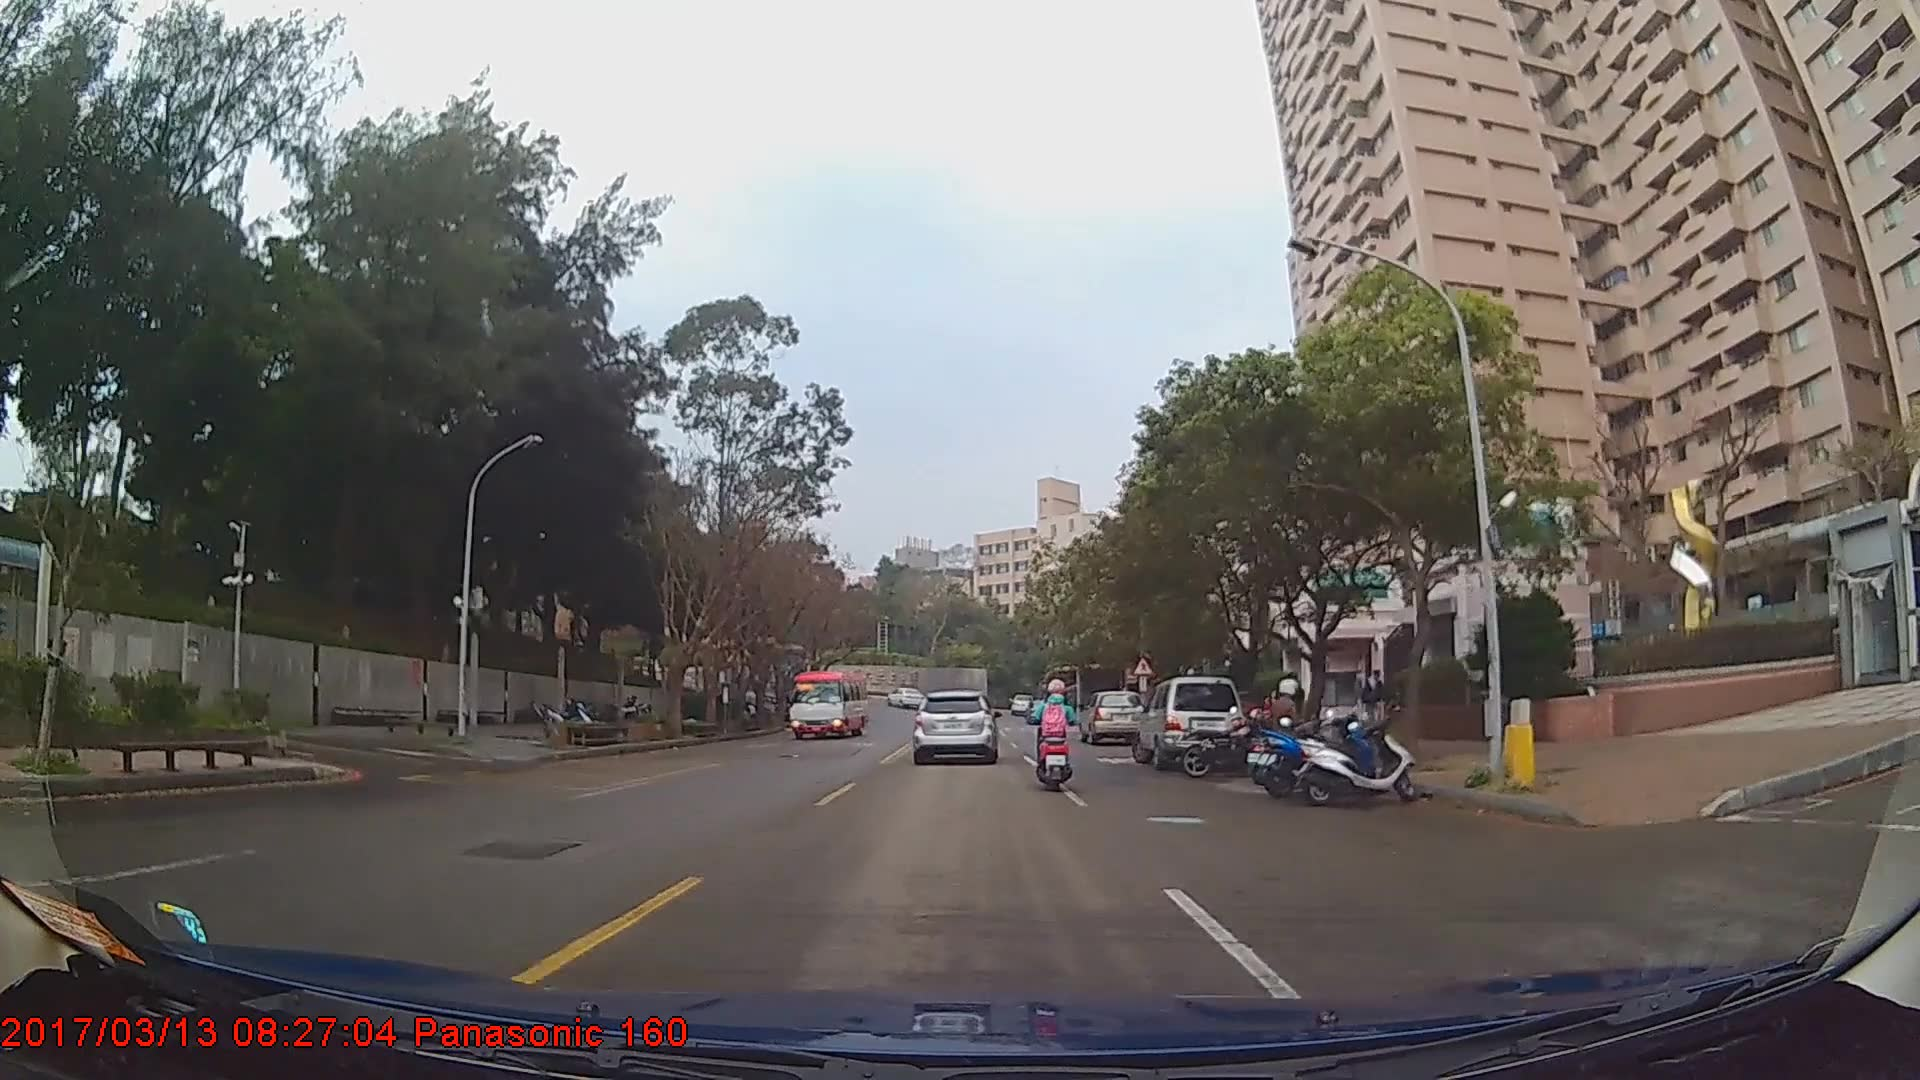rider: (1254, 672, 1315, 778), (1034, 671, 1085, 793)
vehicle: (1131, 674, 1244, 770), (910, 687, 996, 763), (786, 667, 867, 735), (1080, 689, 1144, 744), (882, 684, 927, 708)
